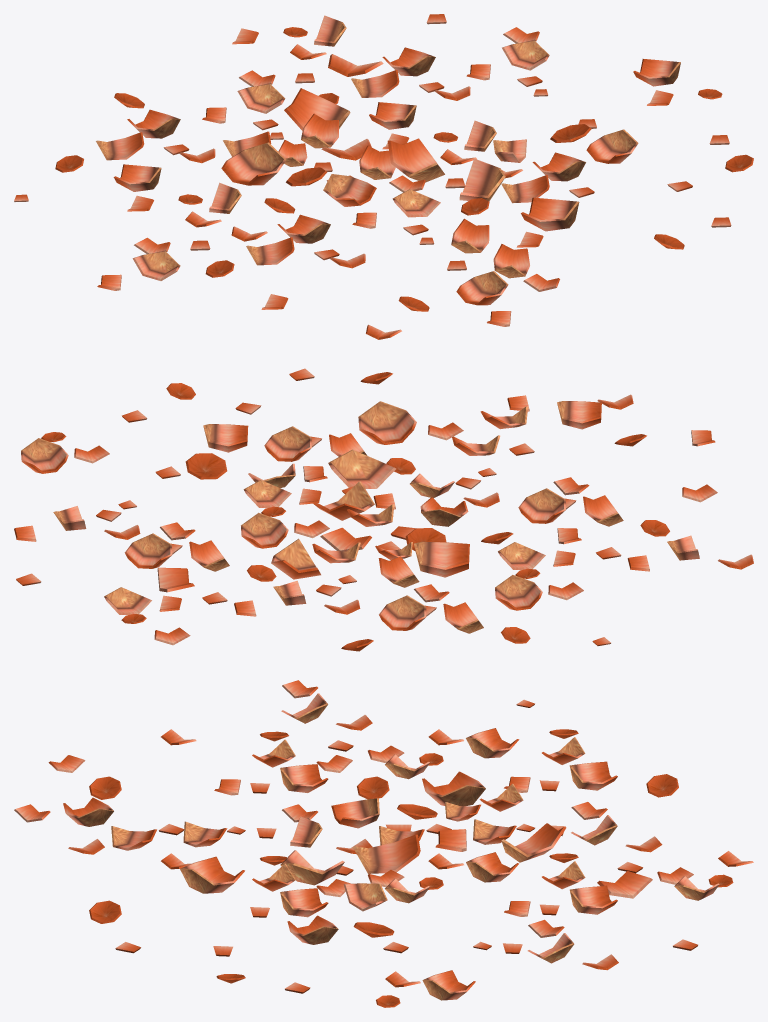
The model's file is StainNuts.FBX.
The picture shows the model from 3 angles, top to bottom: view 1: azimuth 30°, elevation 25°; view 2: azimuth 150°, elevation 25°; view 3: azimuth 270°, elevation 25°; orthographic projection.
Parts seen in each view (by area): view 1: Object101; view 2: Object101; view 3: Object101.
Boxes of the visible parts, bbox=[...] form: Object101: bbox=[14, 14, 753, 339]; Object101: bbox=[14, 368, 753, 651]; Object101: bbox=[14, 680, 753, 1007].
Size of the model in its own units: 69.83 by 67.13 by 3.07.
